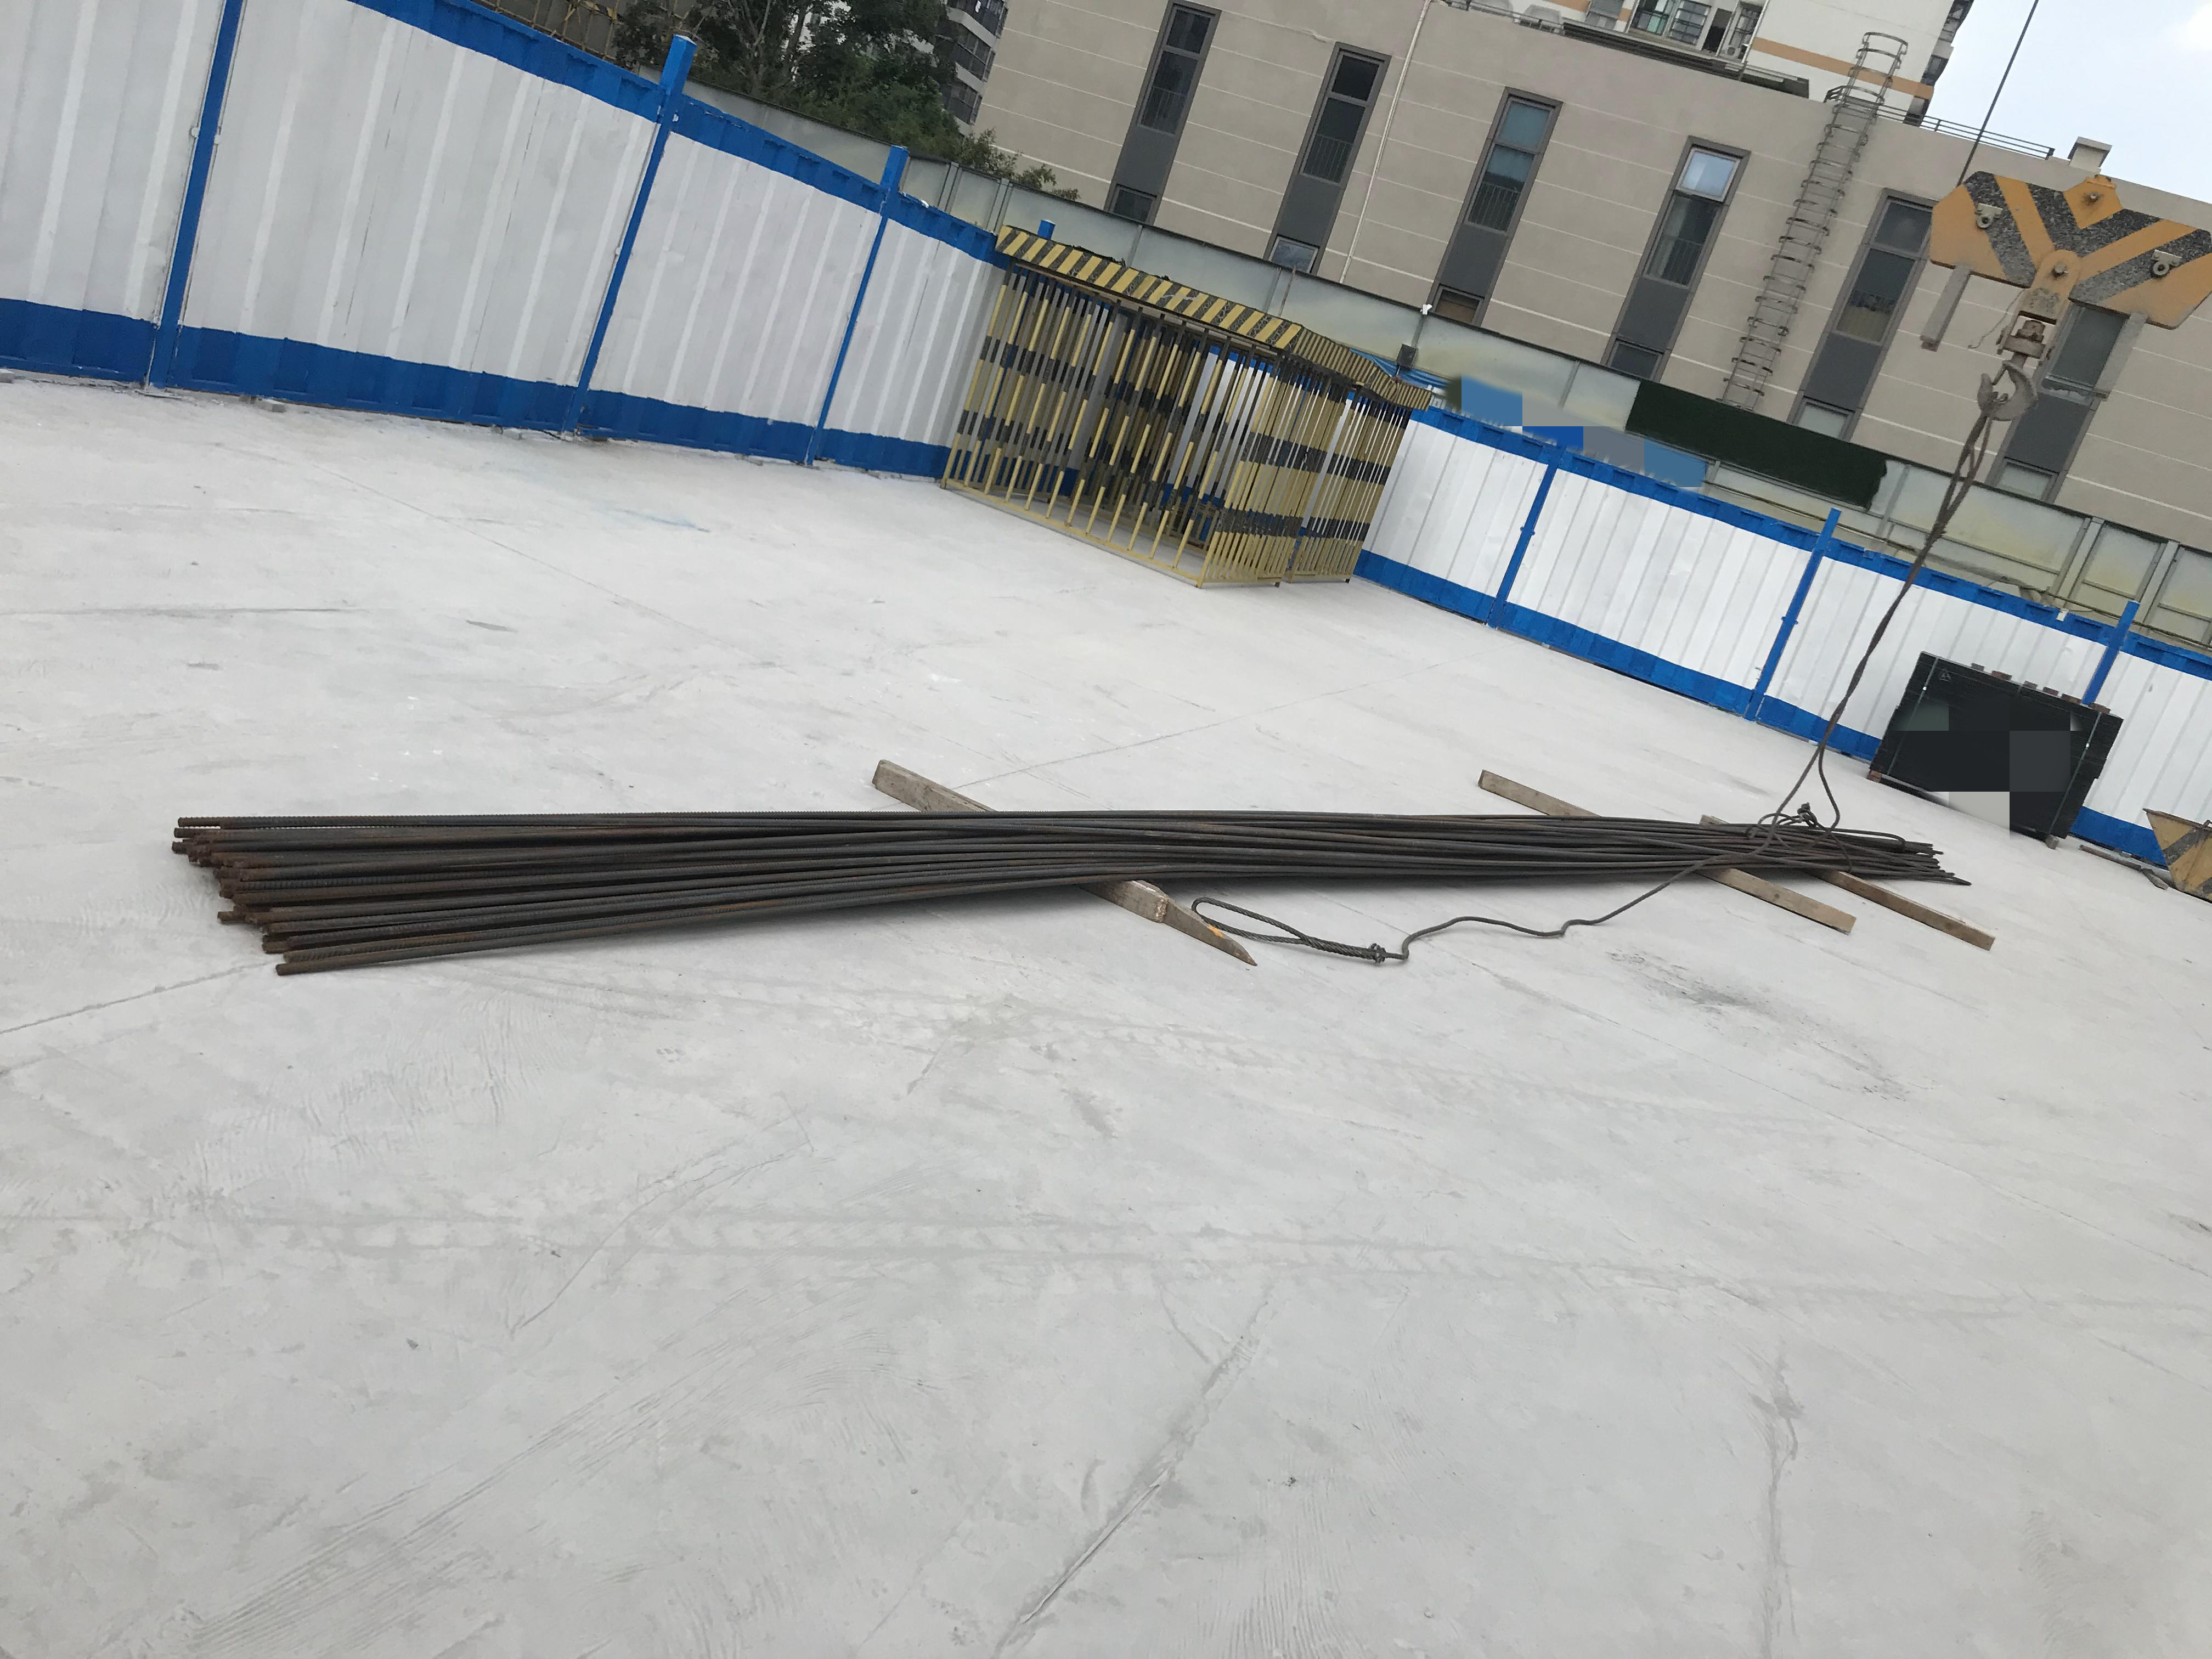hook: (1914, 162, 2212, 432)
hopper: (2141, 802, 2212, 903)
rebar: (164, 810, 1979, 974)
